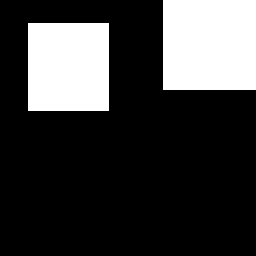rumex: (163, 0, 255, 89), (28, 23, 108, 110)
